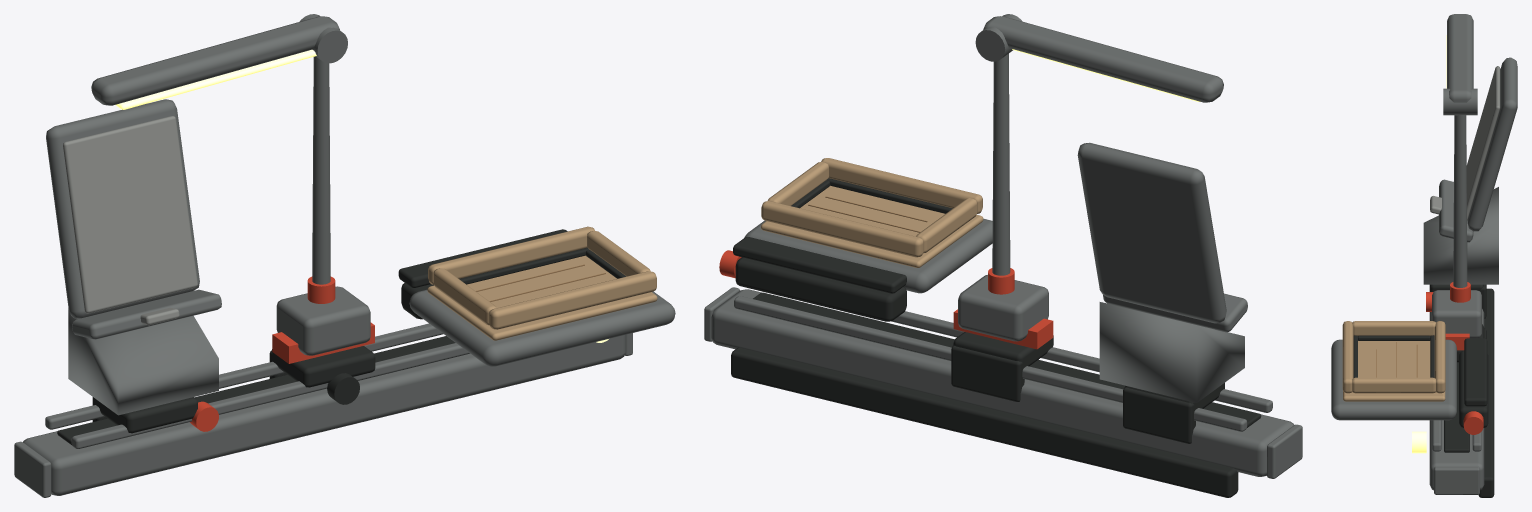
File: dovel-system-01.glb
3 renders of one model, left to right at view 1: azimuth 30°, elevation 25°; view 2: azimuth 150°, elevation 25°; view 3: azimuth 270°, elevation 25°, orthographic. The views are drawn at different scales.
Parts seen in each view (by area): view 1: RailBody_shell, ArcDock_inset, ArcDock_baseWedge, HaloLight_blade, PocketTray_frame, PocketTray_floor, ArcDock_plate, HaloLight_base, HaloLight_stem, RailBody_frontLip, PocketTray_frontLip, PocketTray_backLip (+14 smaller); view 2: ArcDock_plate, RailBody_shell, RailBody_edgeClamp, ArcDock_baseWedge, HaloLight_blade, PocketTray_floor, RailBody_rearLip, PocketTray_rearRail, HaloLight_base, PocketTray_frame, HaloLight_stem, PocketTray_slideLip (+14 smaller); view 3: ArcDock_baseWedge, PocketTray_frame, PocketTray_floor, ArcDock_plate, HaloLight_stem, HaloLight_blade, ArcDock_inset, RailBody_edgeClamp, HaloLight_base, PocketTray_slideLip, RailBody_shell, PocketTray_rightLip (+14 smaller).
Boxes of the visible parts, bbox=[...] form: RailBody_shell: bbox=[23, 335, 625, 495]; ArcDock_inset: bbox=[63, 116, 197, 313]; ArcDock_baseWedge: bbox=[68, 308, 218, 415]; HaloLight_blade: bbox=[91, 16, 339, 105]; PocketTray_frame: bbox=[409, 289, 675, 366]; PocketTray_floor: bbox=[427, 255, 657, 340]; ArcDock_plate: bbox=[46, 99, 199, 318]; HaloLight_base: bbox=[276, 286, 370, 355]; HaloLight_stem: bbox=[312, 56, 330, 284]; RailBody_frontLip: bbox=[71, 343, 469, 448]; PocketTray_frontLip: bbox=[489, 271, 656, 329]; PocketTray_backLip: bbox=[428, 226, 594, 284]; ArcDock_plate: bbox=[1077, 142, 1226, 323]; RailBody_shell: bbox=[711, 289, 1294, 476]; RailBody_edgeClamp: bbox=[731, 347, 1238, 497]; ArcDock_baseWedge: bbox=[1099, 302, 1244, 402]; HaloLight_blade: bbox=[983, 16, 1223, 102]; PocketTray_floor: bbox=[761, 185, 983, 267]; RailBody_rearLip: bbox=[734, 296, 1247, 431]; PocketTray_rearRail: bbox=[735, 257, 906, 321]; HaloLight_base: bbox=[958, 275, 1048, 341]; PocketTray_frame: bbox=[744, 218, 992, 293]; HaloLight_stem: bbox=[992, 53, 1010, 275]; PocketTray_slideLip: bbox=[733, 237, 906, 293]; ArcDock_baseWedge: bbox=[1423, 187, 1498, 284]; PocketTray_frame: bbox=[1331, 339, 1456, 420]; PocketTray_floor: bbox=[1343, 341, 1445, 401]; ArcDock_plate: bbox=[1467, 57, 1517, 231]; HaloLight_stem: bbox=[1453, 115, 1467, 287]; HaloLight_blade: bbox=[1447, 14, 1473, 102]; ArcDock_inset: bbox=[1466, 66, 1500, 220]; RailBody_edgeClamp: bbox=[1478, 288, 1494, 497]; HaloLight_base: bbox=[1432, 290, 1481, 338]; PocketTray_slideLip: bbox=[1464, 338, 1487, 406]; RailBody_shell: bbox=[1429, 309, 1484, 490]; PocketTray_rightLip: bbox=[1352, 377, 1435, 393].
Bounding box in the file's own units: 1.23 × 0.8316 × 0.4448.
